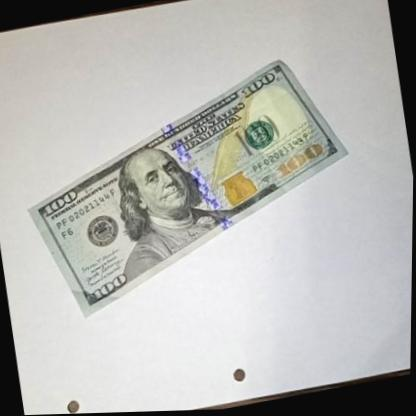one_hundred-front: (9, 47, 370, 330)
